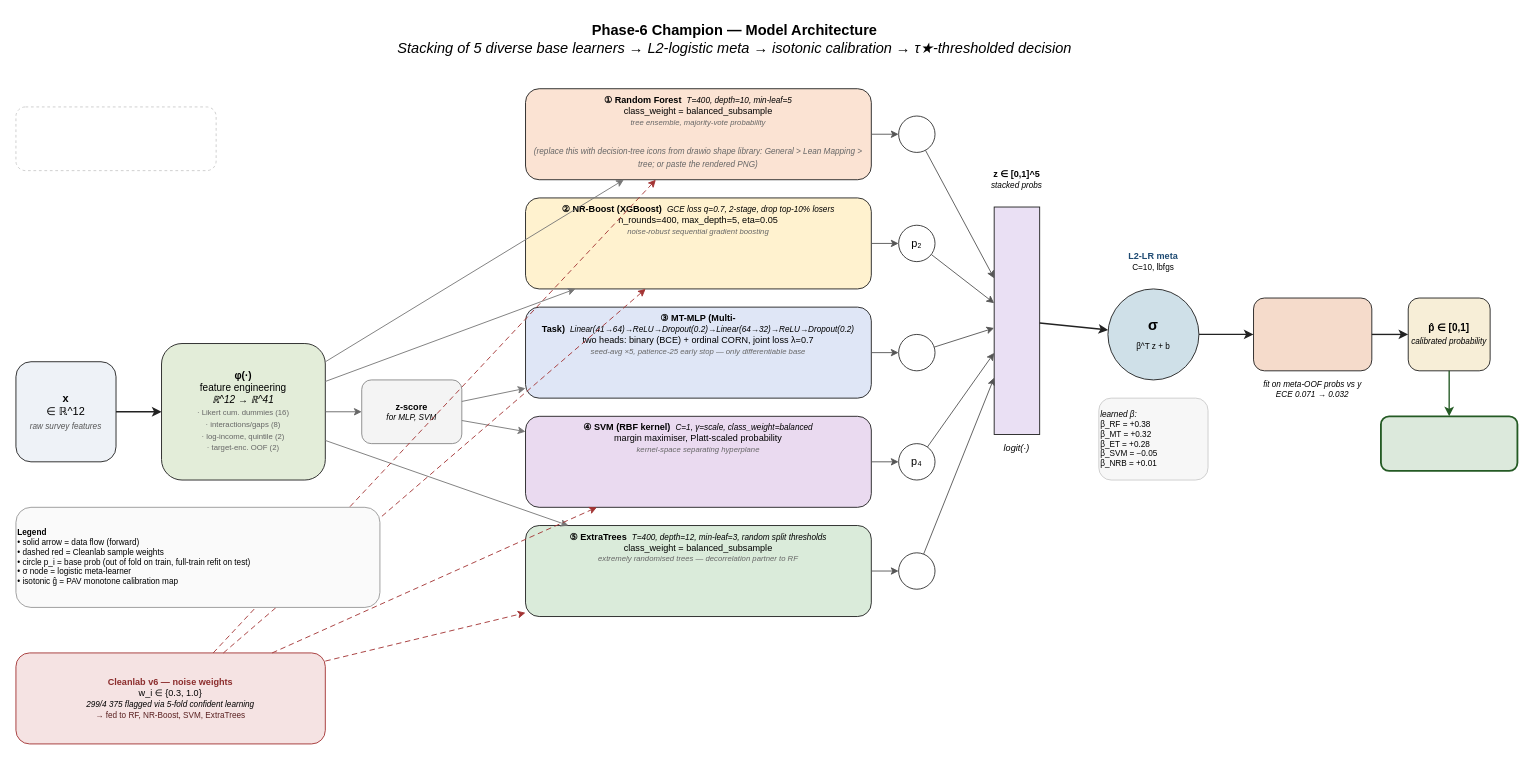
This 1534x760 diagram has some shape labels left out. Here are the shapes that lost their labels. From the top down, the box of each, then its label:
(15, 106, 216, 171): Data split (seed=42) • Train: N = 4 375 (14.5% pos) • Test: N = 1 094 (frozen)
(898, 115, 935, 152): p₁
(993, 206, 1040, 435): p₁ p₂ p₃ p₄ p₅
(1253, 297, 1372, 371): ĝ isotonic (PAV) monotone piecewise-constant
(898, 334, 935, 371): p₃
(1380, 415, 1518, 471): ŷ = 𝟙[p̂ ≥ τ★] τ★ = 0.135 (Bal-Acc optimal)
(898, 552, 935, 589): p₅
